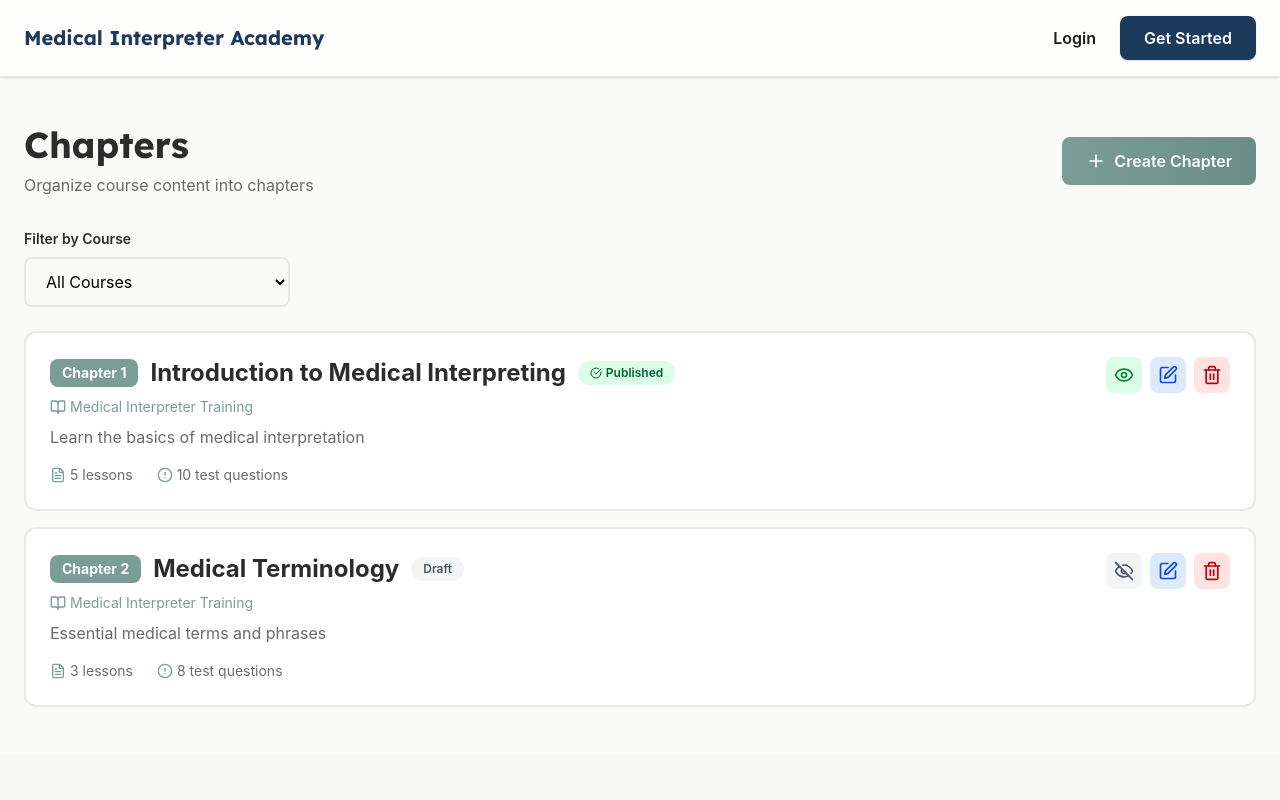
Test: AdminChapters Page › Create Chapter Modal › should show error on create failure
The image size is (1280, 800).
Click the button "Create Chapter".
click(1159, 161)  # box [1062,137,1256,185]
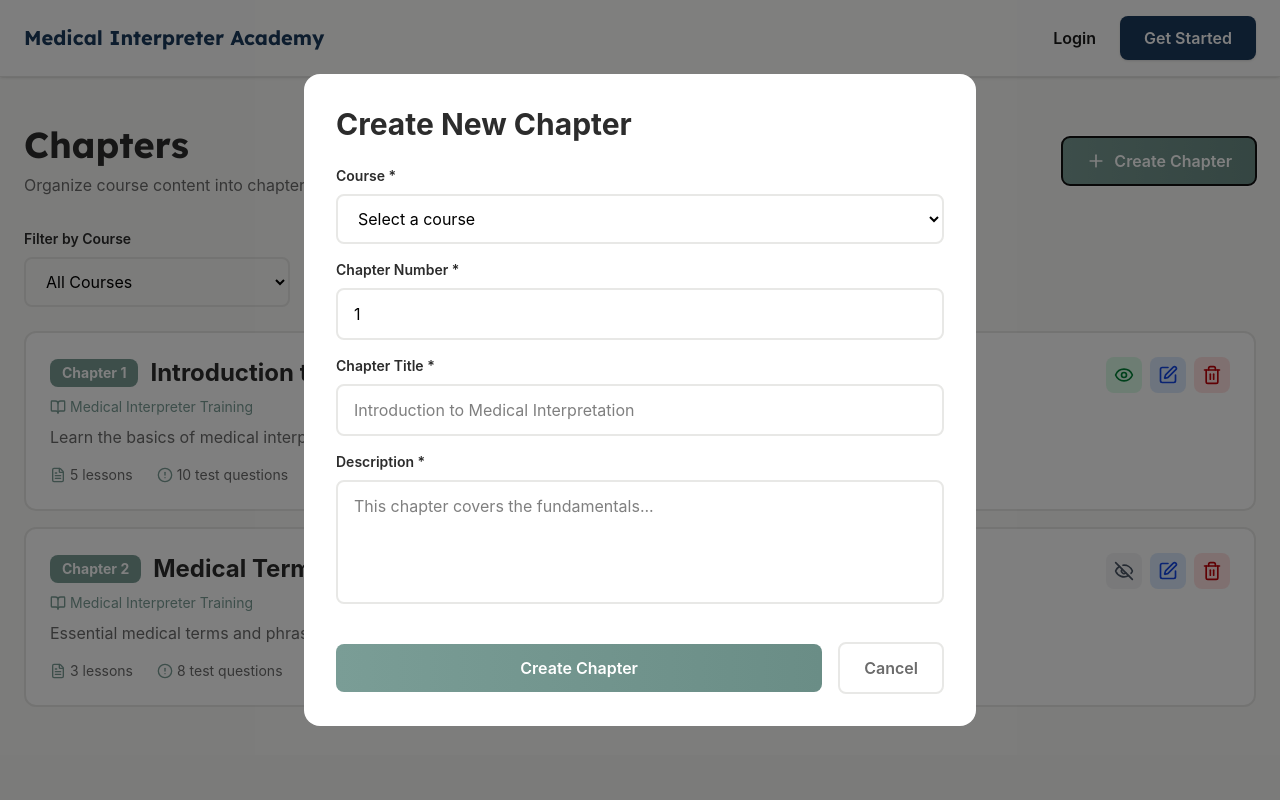
Select "Medical Interpreter Training" in the dropdown at (640, 219), box [336,194,944,244]
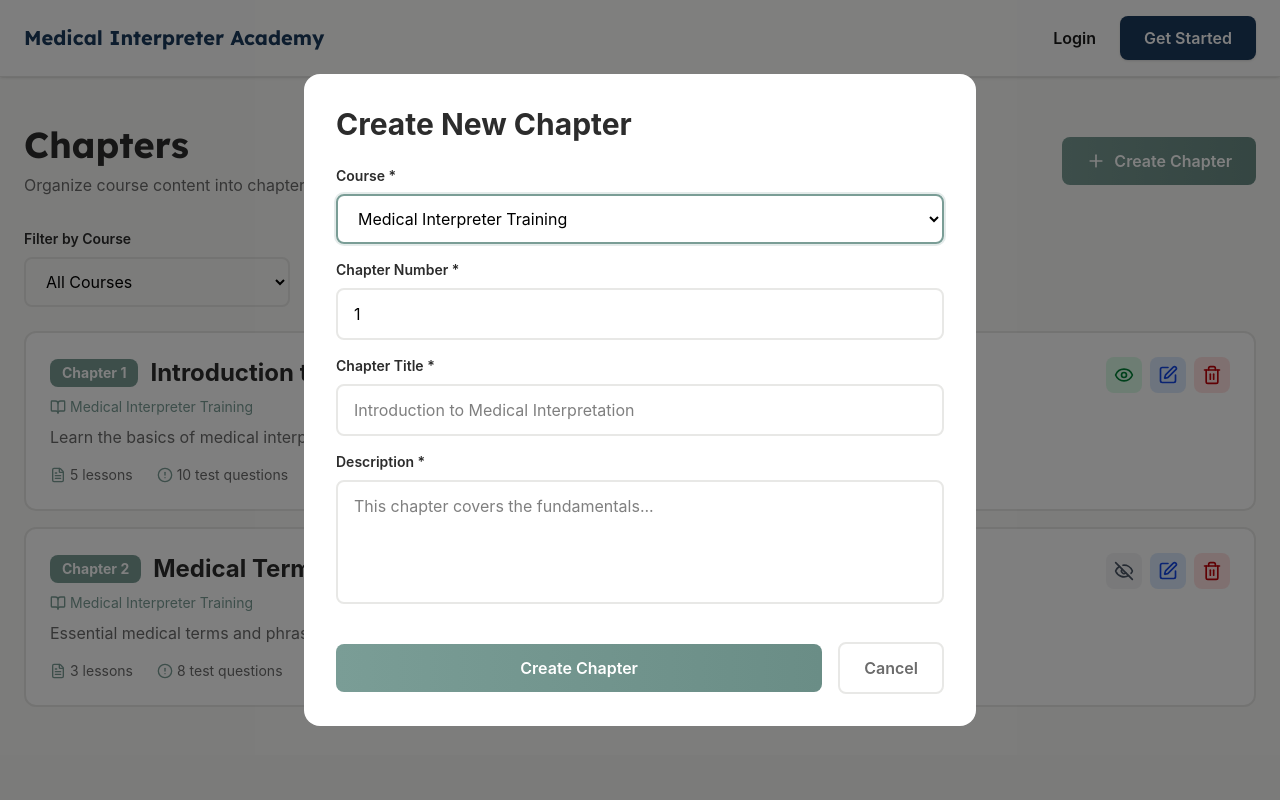
Type "Test" into the field with placeholder "Introduction to Medical Interpretation".
click(640, 410); type("Test")  # box [336,384,944,436]
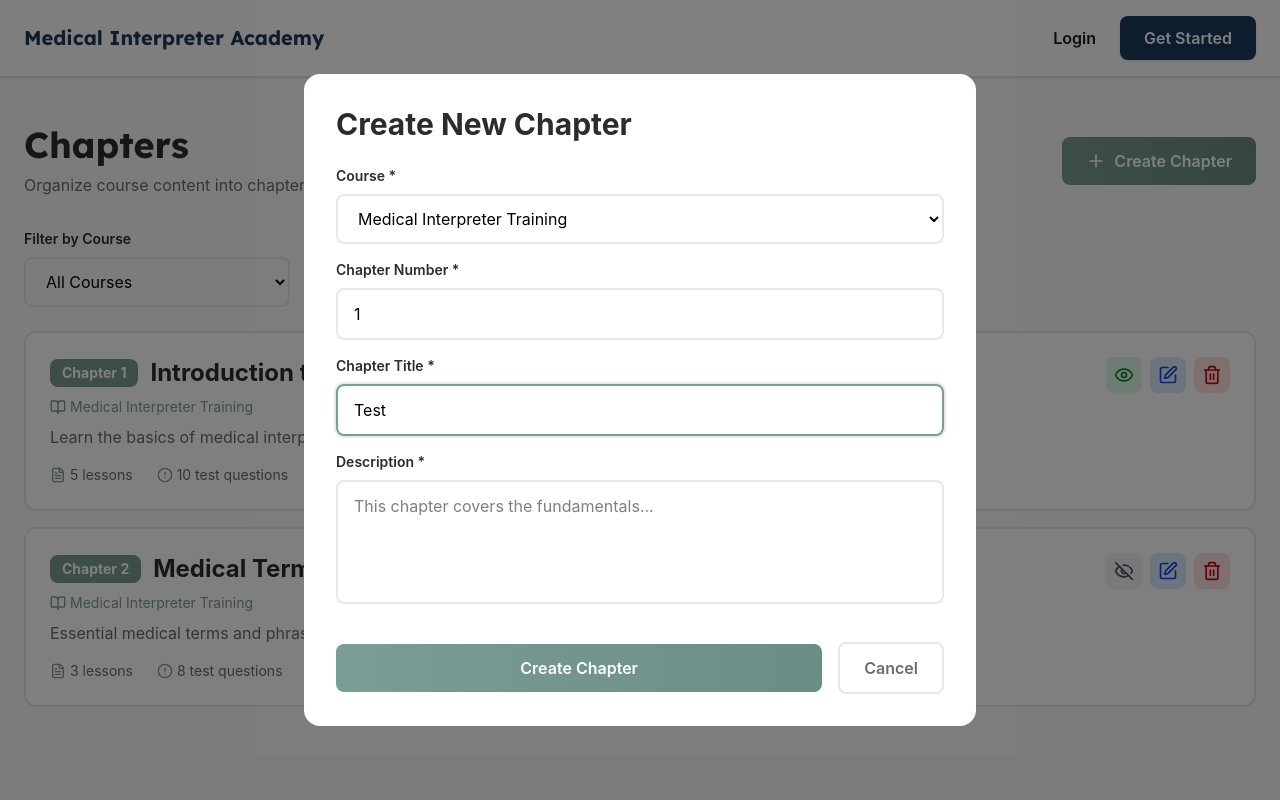
Type "Test" into the text box with placeholder "This chapter covers the fundamentals...".
click(640, 542); type("Test")  # box [336,480,944,604]
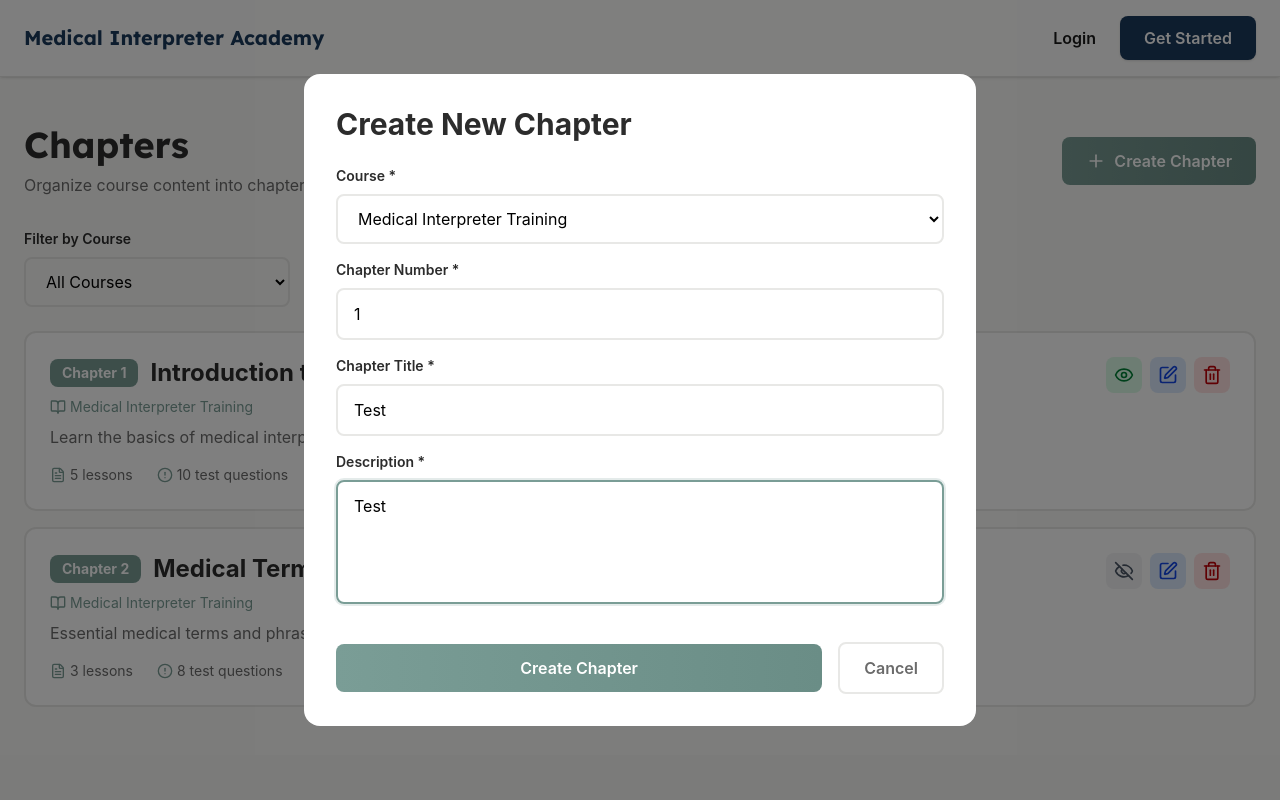
Click the button "Create Chapter".
click(579, 668)  # box [336,644,822,692]
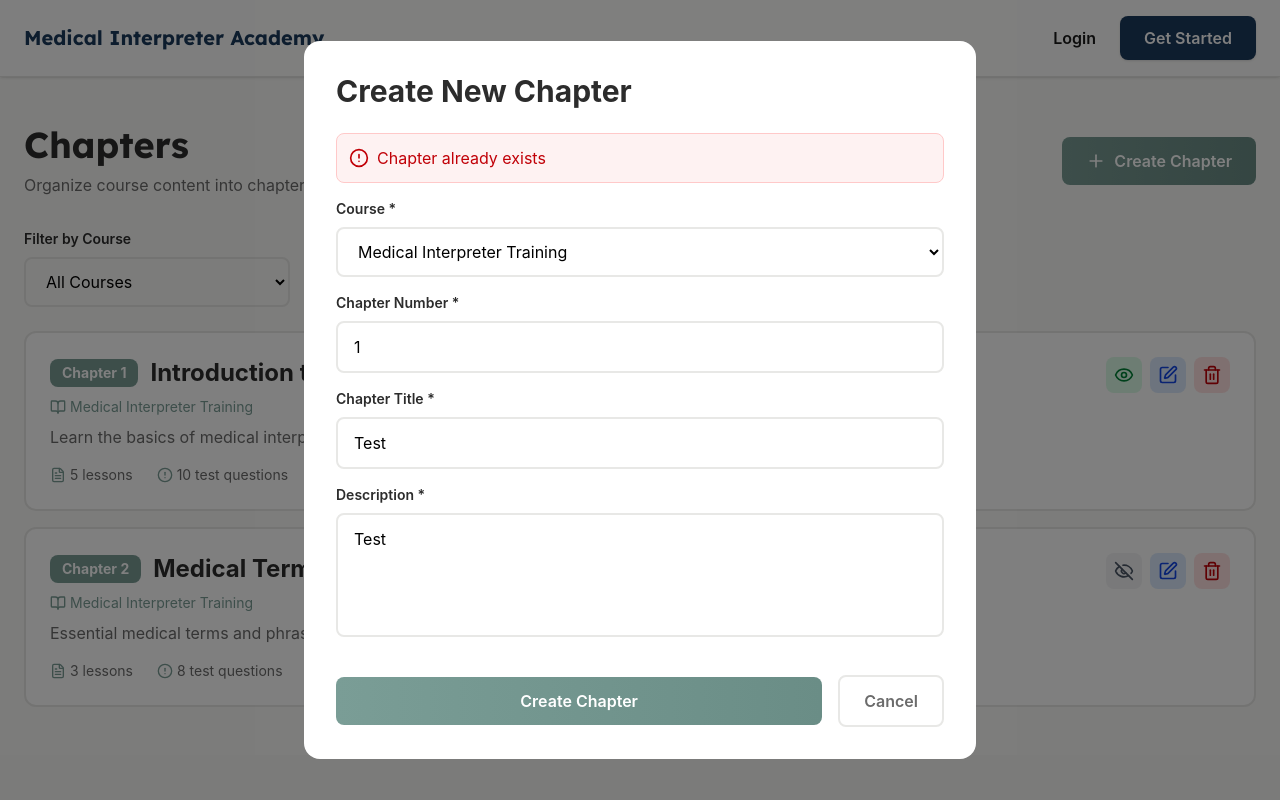
Expected: the text "Chapter already exists" is shown, [377,146,546,170]
